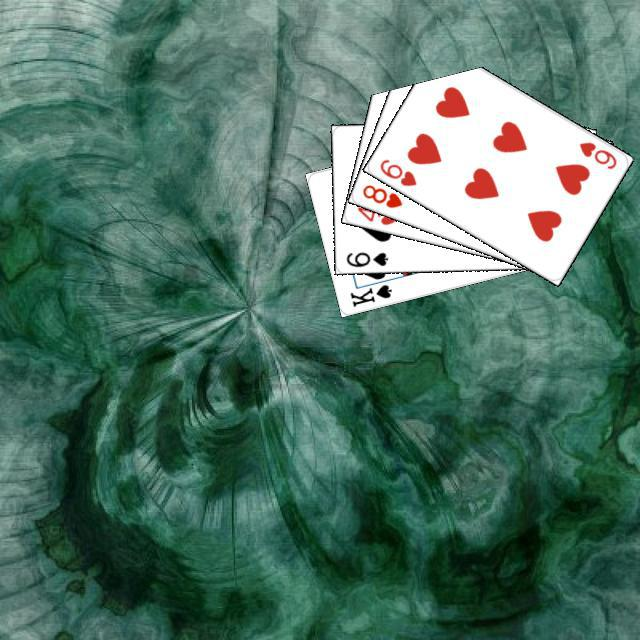4h: (352, 201, 399, 227)
6h: (574, 137, 619, 171), (375, 154, 418, 188)
6s: (342, 247, 389, 268)
8h: (357, 180, 404, 210)
Ks: (345, 279, 394, 308)
